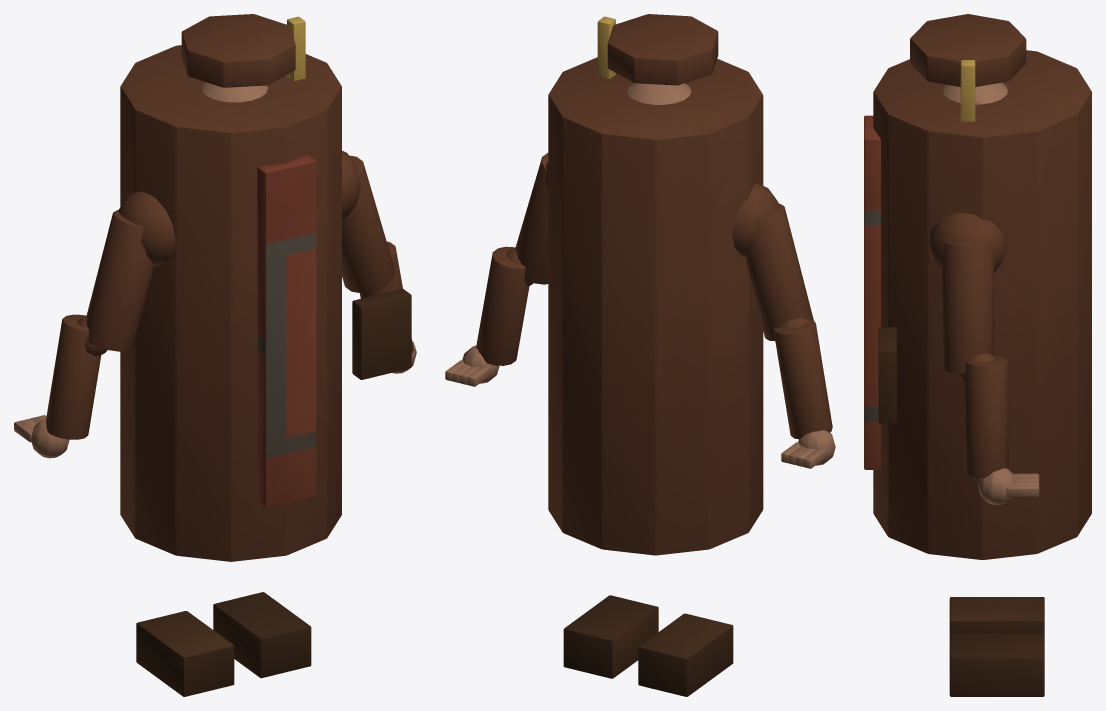
The model's file is unit_university_fellow.fbx.
3 views of the same model, side by side, from view 1: azimuth 30°, elevation 25°; view 2: azimuth 150°, elevation 25°; view 3: azimuth 270°, elevation 25° (orthographic). The views are drawn at different scales.
Parts seen in each view (by area): view 1: unit_university_fellow; view 2: unit_university_fellow; view 3: unit_university_fellow.
Part boxes in pixels (x1,y1,x2,y2): unit_university_fellow: (14,14,416,696); unit_university_fellow: (445,14,835,696); unit_university_fellow: (864,14,1091,696).
Size of the model in its own units: 1.18 by 1.91 by 0.6243.
